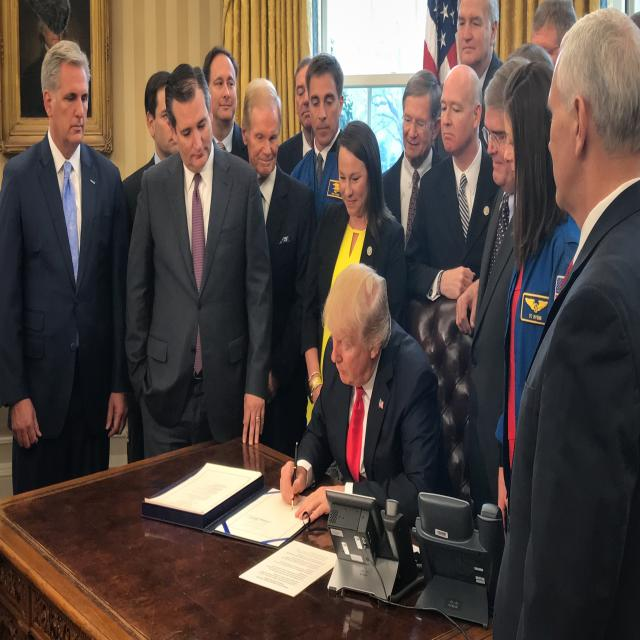body: (121, 61, 273, 459), (0, 39, 130, 496), (494, 57, 581, 540), (279, 262, 439, 524), (495, 59, 580, 543), (300, 120, 409, 483), (455, 55, 538, 510), (240, 77, 317, 460), (120, 71, 179, 467), (405, 61, 499, 308), (431, 0, 507, 163), (381, 68, 446, 252), (504, 0, 638, 76), (288, 55, 351, 215), (18, 1, 92, 119), (202, 46, 249, 163), (275, 55, 315, 177)
